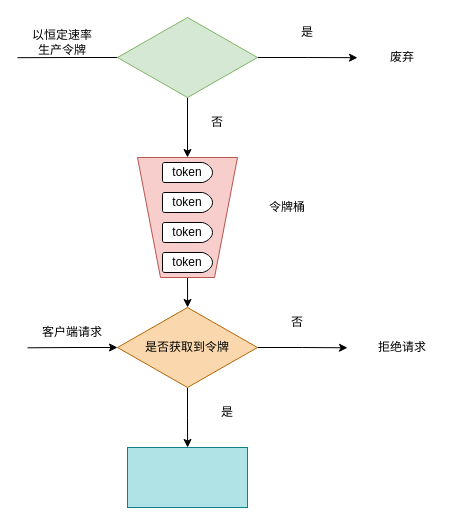
Image size: 455x525. Some labels were removed from this diagram. The centre of each missing label's shape, as x and y in pixels:
接口服务: point 187,477
桶是否满了: point 187,57
